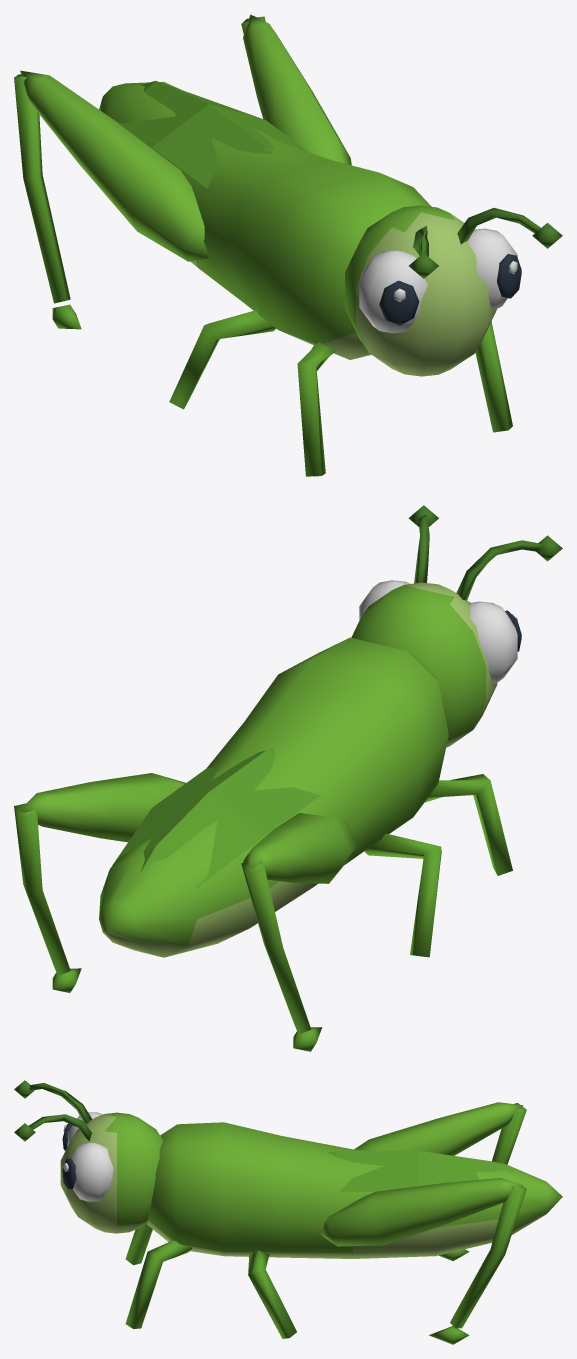
File: grasshopper.glb
3 renders of one model, top to bottom at view 1: azimuth 30°, elevation 25°; view 2: azimuth 150°, elevation 25°; view 3: azimuth 270°, elevation 25°, orthographic. The views are drawn at different scales.
Visible parts, largest first — view 1: body, head, leg-right, leg-left, antenna-left, antenna-right; view 2: body, head, leg-left, leg-right, antenna-right, antenna-left; view 3: body, leg-left, head, leg-right, antenna-right, antenna-left.
Boxes of the visible parts, x1,y1,x2,y2 form: body: [99, 80, 512, 476]; head: [345, 205, 521, 376]; leg-right: [14, 70, 208, 329]; leg-left: [241, 14, 351, 165]; antenna-left: [457, 208, 562, 248]; antenna-right: [409, 226, 438, 278]; body: [99, 637, 512, 957]; head: [351, 580, 521, 747]; leg-left: [14, 773, 185, 992]; leg-right: [241, 813, 357, 1051]; antenna-right: [456, 535, 562, 600]; antenna-left: [408, 505, 438, 583]; body: [125, 1122, 562, 1338]; leg-left: [321, 1178, 526, 1344]; head: [60, 1112, 162, 1233]; leg-right: [354, 1102, 526, 1260]; antenna-right: [14, 1080, 92, 1123]; antenna-left: [14, 1114, 91, 1141].
Bounding box in the file's own units: 1.58 × 1.62 × 4.
